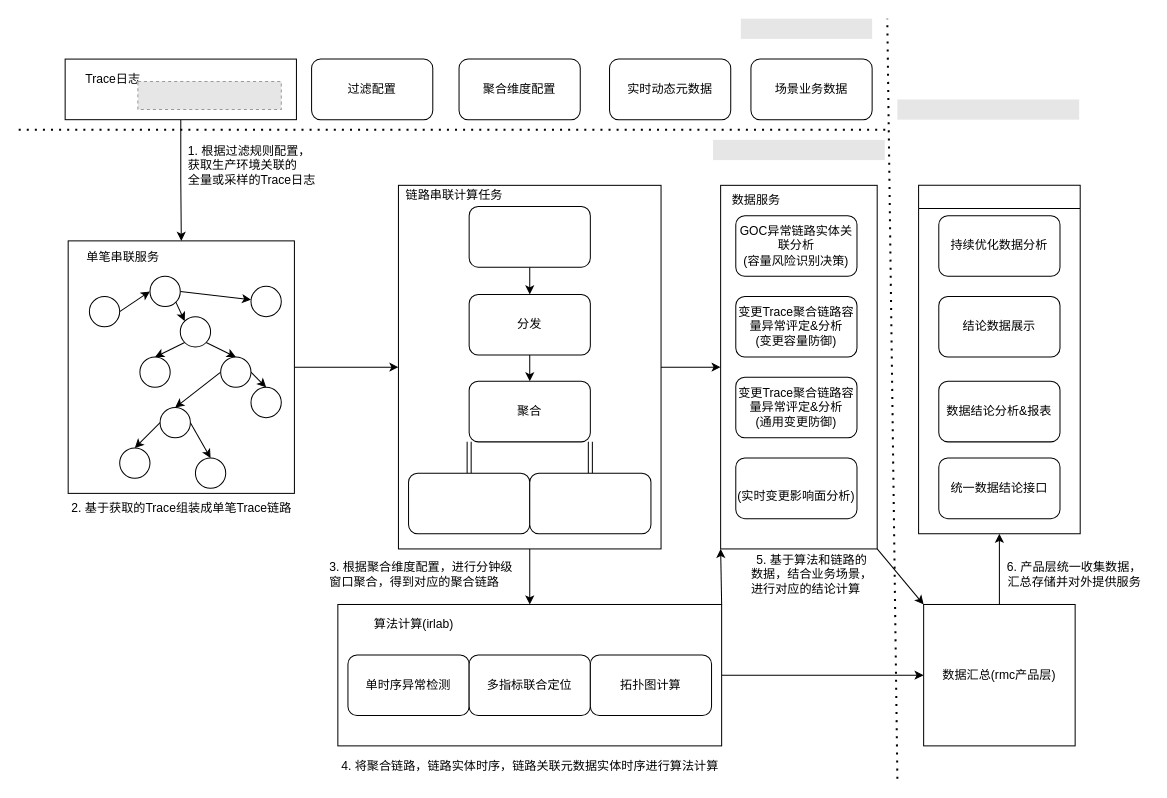
This 1167x798 diagram has some shape labels left out. Grey dashed boxes stand in for pictures. The shapes that lost their labels are listed below. From the top down, each one's box as (x1, y1, x2, y2) in pixels, then its label:
(740, 18, 872, 38): 系统输入：数据&配置
(897, 99, 1079, 119): 系统输出：数据服务&产品服务
(713, 139, 884, 160): 业务规则：流计算&算法计算
(468, 206, 590, 267): 拆分
(918, 184, 1080, 534): 多维度数据服务
(408, 472, 530, 534): 链路存储
(529, 472, 651, 534): 时序存储
